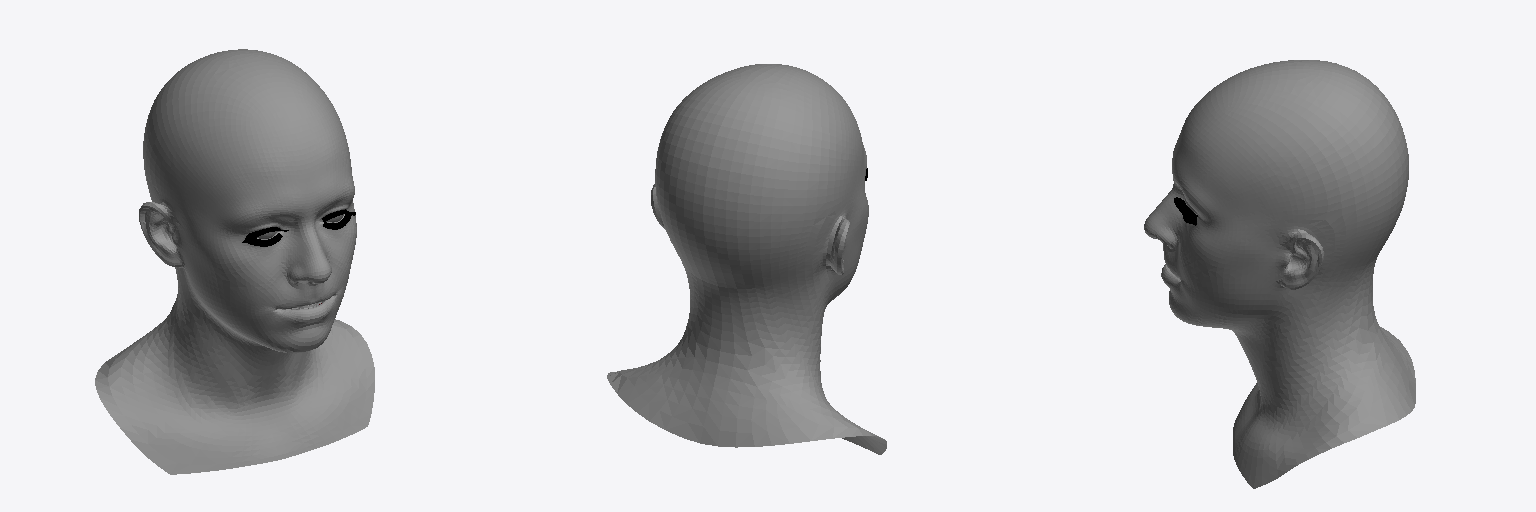
Rendered from mouthRollUpper.obj.
The picture shows the model from 3 angles: view 1: azimuth 30°, elevation 25°; view 2: azimuth 150°, elevation 25°; view 3: azimuth 270°, elevation 25°; orthographic projection.
Size of the model in its own units: 24.83 by 33.81 by 22.29.